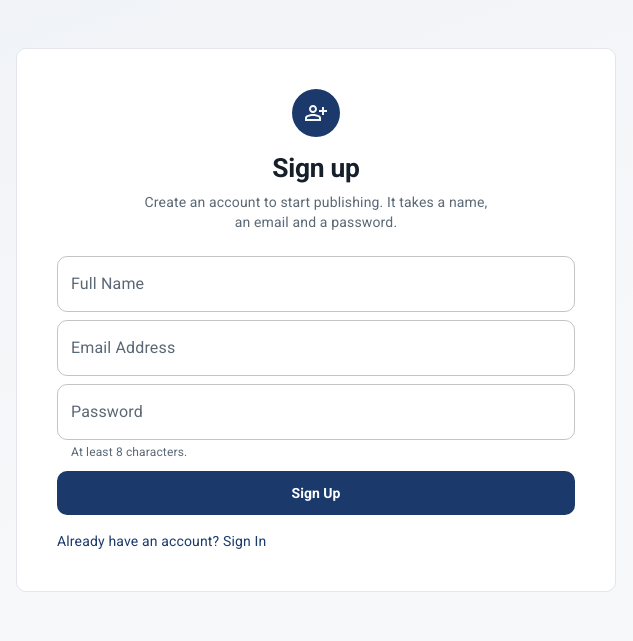
Test: <Signup /> › shows the API message when the email is already taken
Type "Ada Lovelace" into the field labelled "Full Name".
click(316, 284); type("Ada Lovelace")  # box [57,256,575,312]
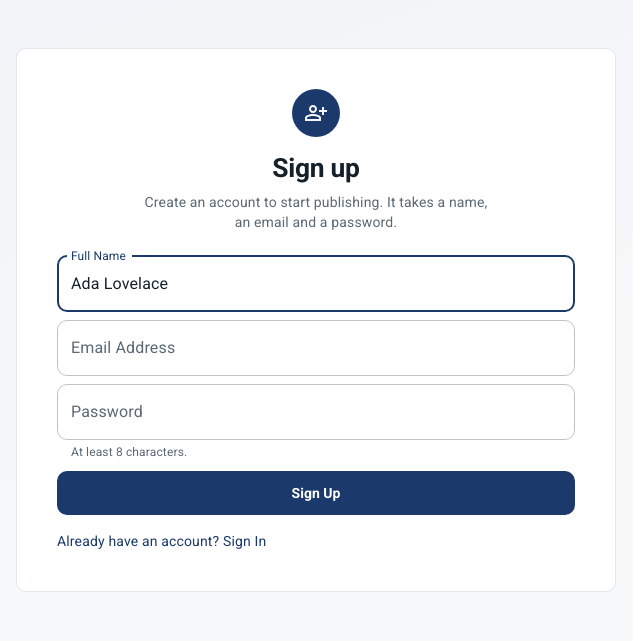
Type "ada@example.com" into the field labelled "Email Address".
click(316, 348); type("ada@example.com")  # box [57,320,575,376]
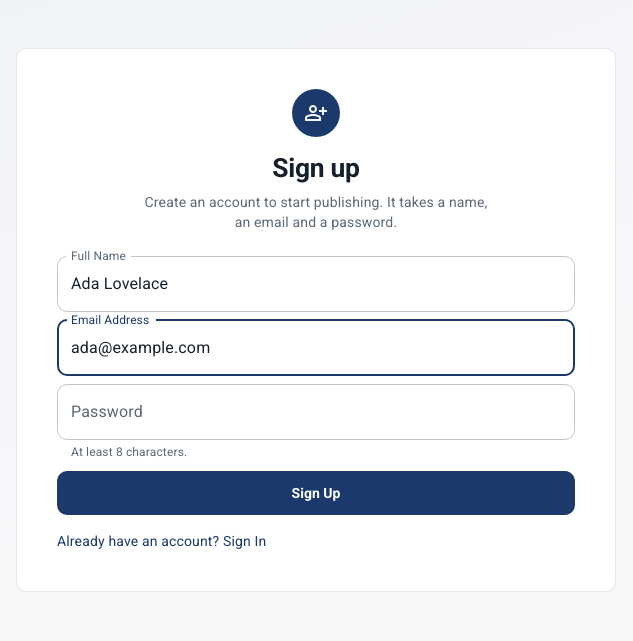
Type "analytical1843" into the password field labelled "Password".
click(316, 412); type("analytical1843")  # box [57,384,575,440]
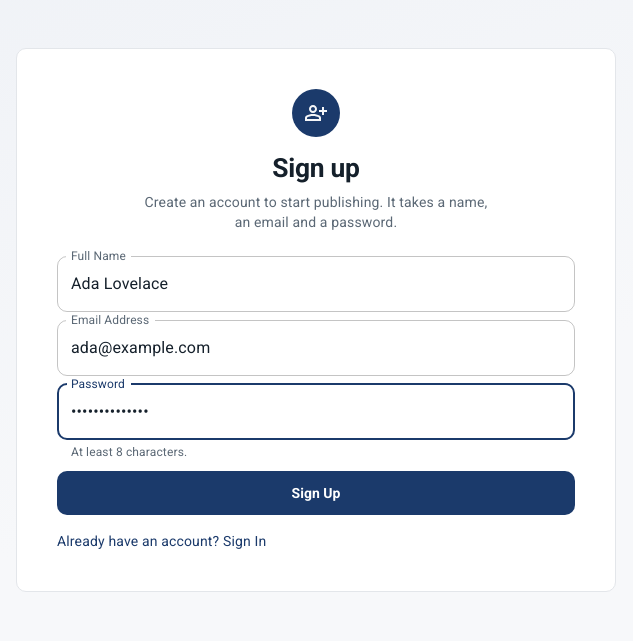
Click the button "Sign Up".
click(316, 493)  # box [57,471,575,515]
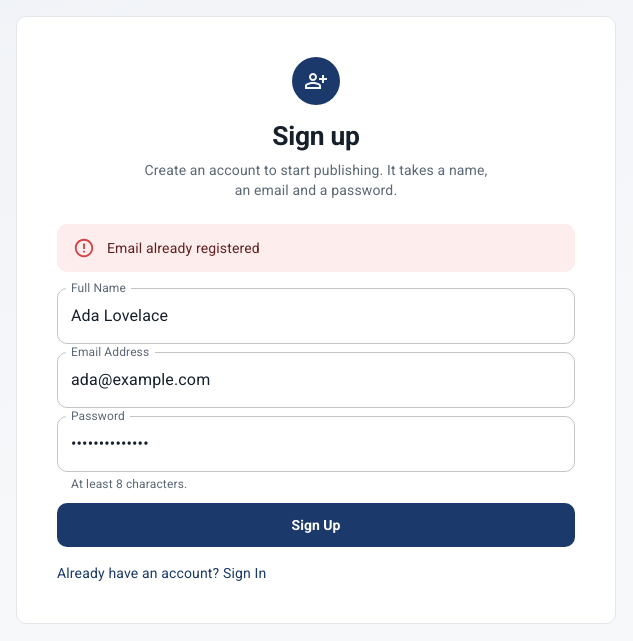
Now the message reads "Email already registered", box [107,240,260,256]
